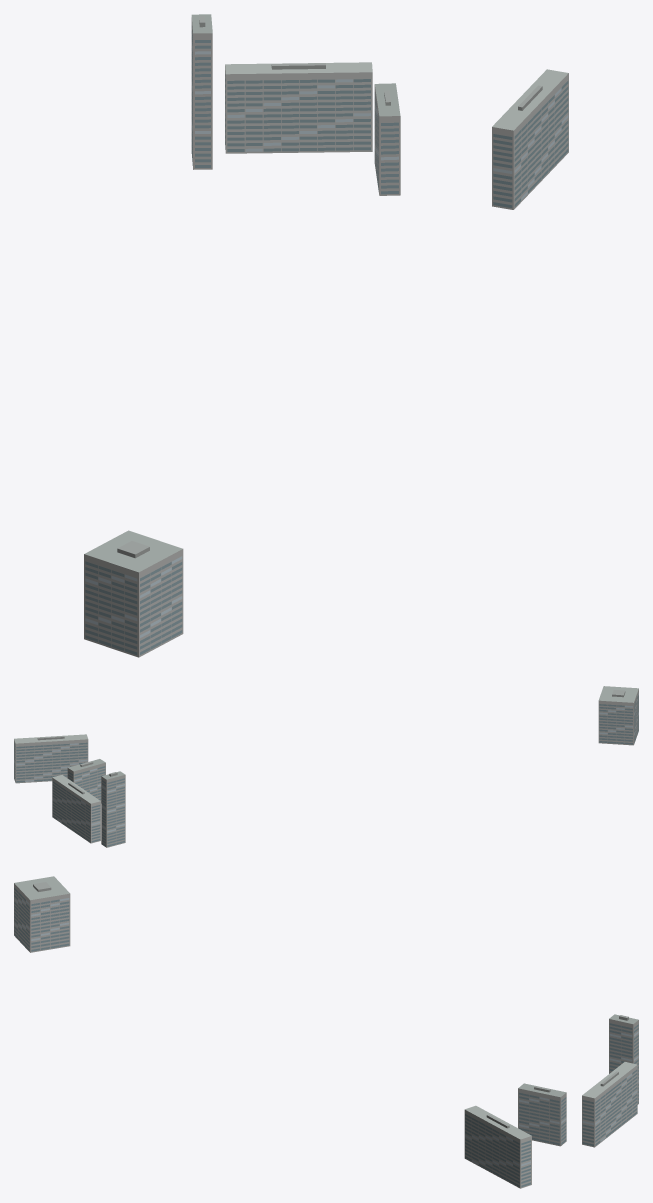
The model's file is residual-olympic-athletes-village-apt-a13805002.glb.
3 views of the same model, one above another, from view 1: azimuth 30°, elevation 25°; view 2: azimuth 150°, elevation 25°; view 3: azimuth 270°, elevation 25° (orthographic). The views are drawn at different scales.
Visible parts, largest first — view 1: residual-olympic-athletes-village-apt-a13805002; view 2: residual-olympic-athletes-village-apt-a13805002; view 3: residual-olympic-athletes-village-apt-a13805002.
Part boxes in pixels (bbox=[...]): residual-olympic-athletes-village-apt-a13805002: bbox=[84, 14, 568, 657]; residual-olympic-athletes-village-apt-a13805002: bbox=[14, 686, 638, 847]; residual-olympic-athletes-village-apt-a13805002: bbox=[14, 876, 638, 1188].
Size of the model in its own units: 484 by 75.6 by 492.
